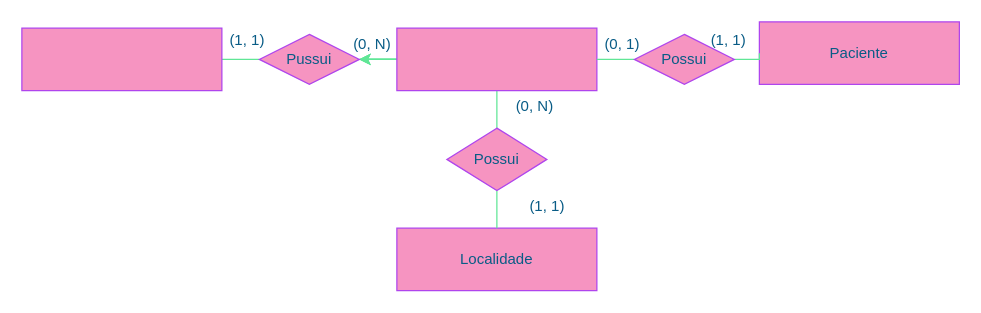
Some shapes in this 981 by 313 pixel diagram are drawn without their labels. The box of each missing label's shape, as (x1, y1, x2, y2) in pixels:
Consulta: (396, 27, 597, 91)
Medico: (21, 27, 222, 91)
